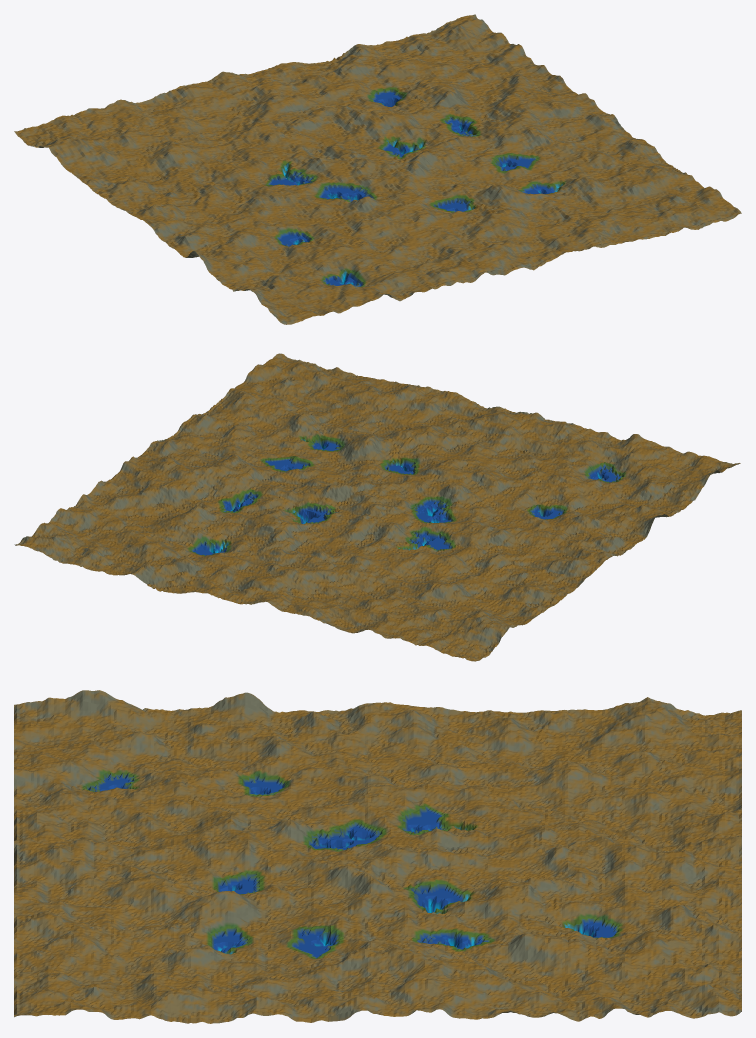
The model's file is terrain_FLAME.obj.
3 views of the same model, one above another, from view 1: azimuth 30°, elevation 25°; view 2: azimuth 150°, elevation 25°; view 3: azimuth 270°, elevation 25° (orthographic). The views are drawn at different scales.
Parts seen in each view (by area): view 1: FLAME; view 2: FLAME; view 3: FLAME.
Part boxes in pixels (left/top/right/bottom): FLAME: left=14, top=14, right=741, bottom=324; FLAME: left=14, top=353, right=740, bottom=661; FLAME: left=14, top=690, right=741, bottom=1023.
Size of the model in its own units: 255 by 23.41 by 255.
Materials: 1 (1 with a texture image).
